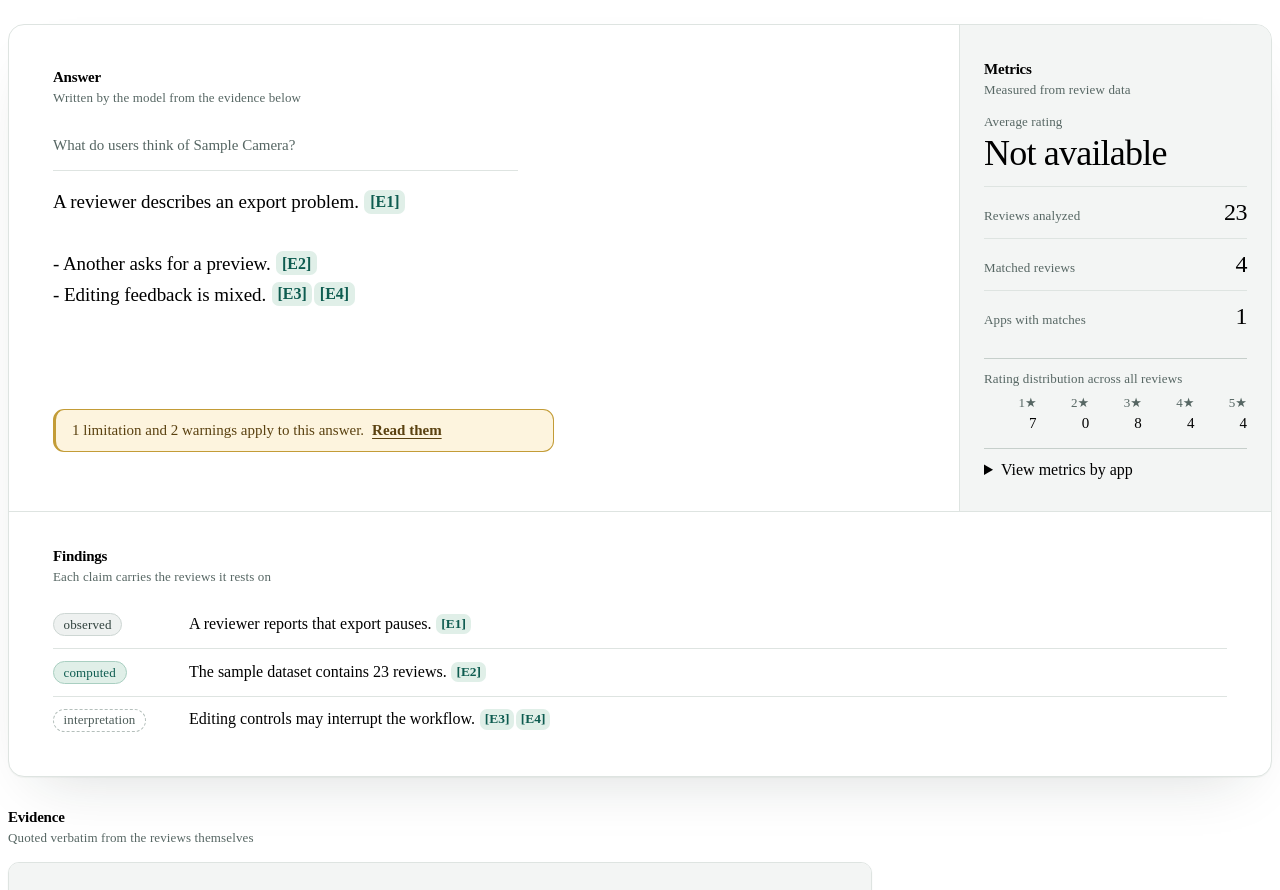
it: grounded result presentation › renders nullable averages and date ranges without inventing zero values
Expected: the text "Not available" is shown, [984,133,1167,173]
Click the heading "View metrics by app" at (1067, 470), box [1001,461,1133,478]
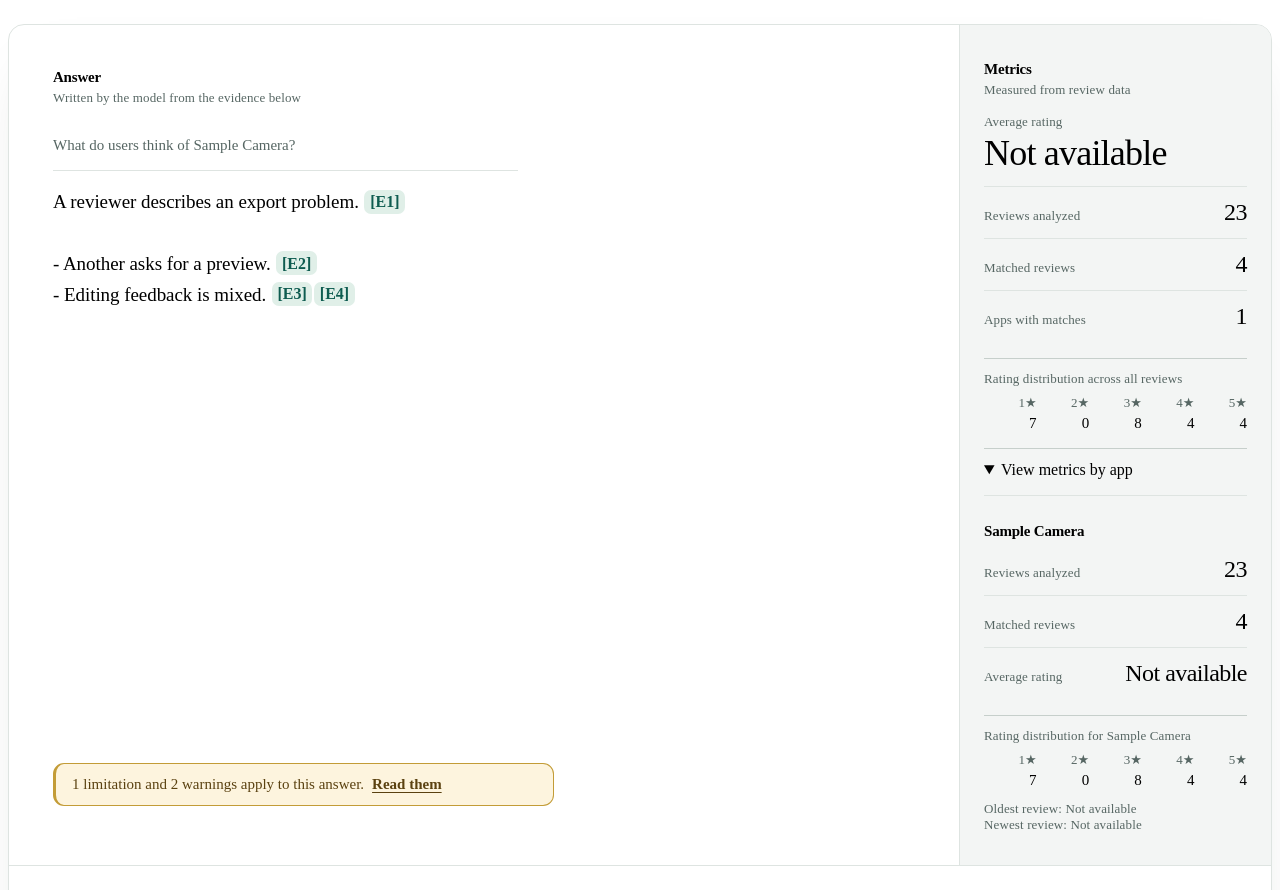
Result: the text "Not available" is shown 2 times at [984,133,1167,173]; [1125,660,1247,687]
